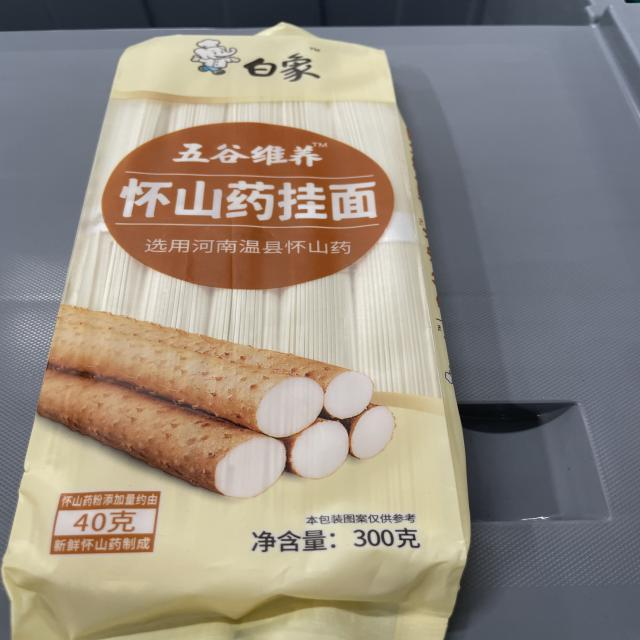object_name: (82, 43, 448, 640)
